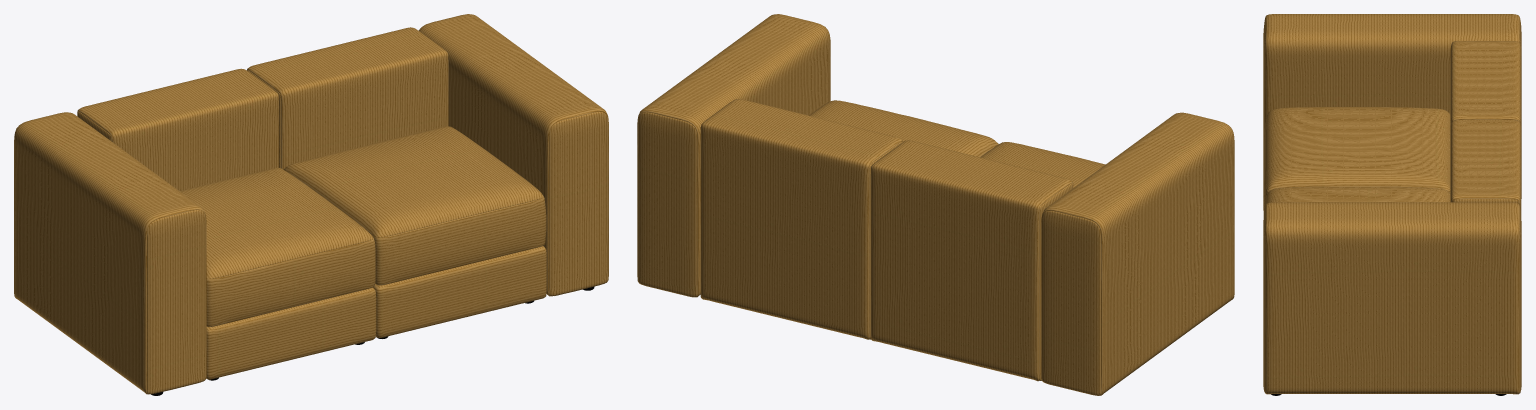
File: cover-samsala-zoltobrazowy.glb
3 views of the same model, side by side, from view 1: azimuth 30°, elevation 25°; view 2: azimuth 150°, elevation 25°; view 3: azimuth 270°, elevation 25° (orthographic). The views are drawn at different scales.
Visible parts, largest first — view 1: 19617427_49608266-0011.001; view 2: 19617427_49608266-0011.001; view 3: 19617427_49608266-0011.001.
Boxes of the visible parts, box(x1,y1,x2,y2) form: 19617427_49608266-0011.001: box(14, 14, 608, 395); 19617427_49608266-0011.001: box(637, 14, 1234, 395); 19617427_49608266-0011.001: box(1263, 14, 1521, 395).
Bounding box in the file's own units: 1.9 × 0.71 × 0.9501.
Materials: 2 (1 with a texture image).
